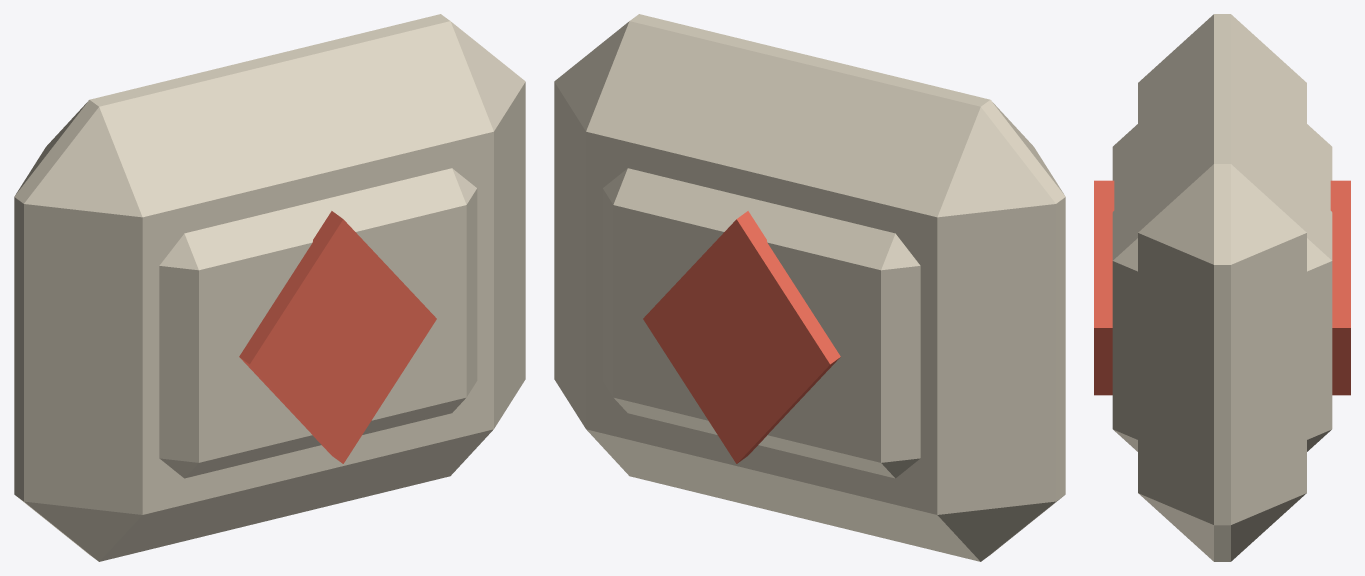
File: cushion_square.glb
3 views of the same model, side by side, from view 1: azimuth 30°, elevation 25°; view 2: azimuth 150°, elevation 25°; view 3: azimuth 270°, elevation 25° (orthographic). The views are drawn at different scales.
Visible parts, largest first — view 1: cushion_square; view 2: cushion_square; view 3: cushion_square.
Boxes of the visible parts, x1,y1,x2,y2 form: cushion_square: (14,14,525,561); cushion_square: (554,14,1065,561); cushion_square: (1094,14,1350,561).
Bounding box in the file's own units: 0.3 × 0.26 × 0.152.
